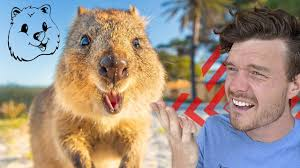quokka: (27, 5, 174, 168)
